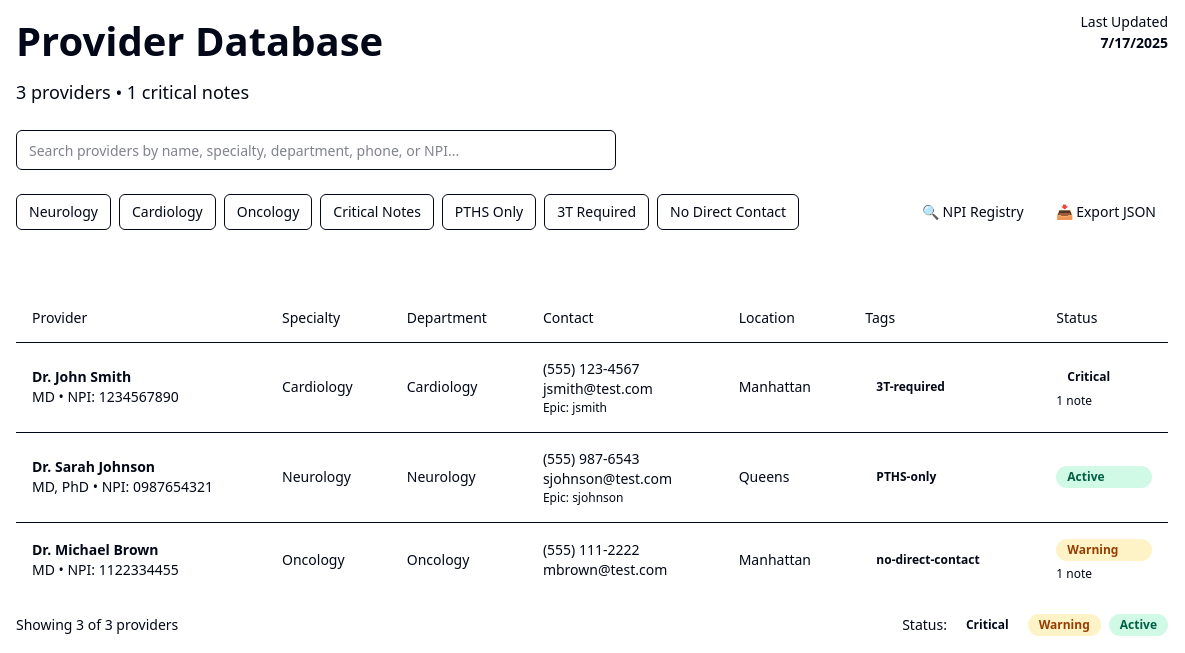
Test: Providers Page › Filter Functionality › filters by critical status
Click the button "Critical Notes". click: (377, 212)
box: [320,194,434,230]
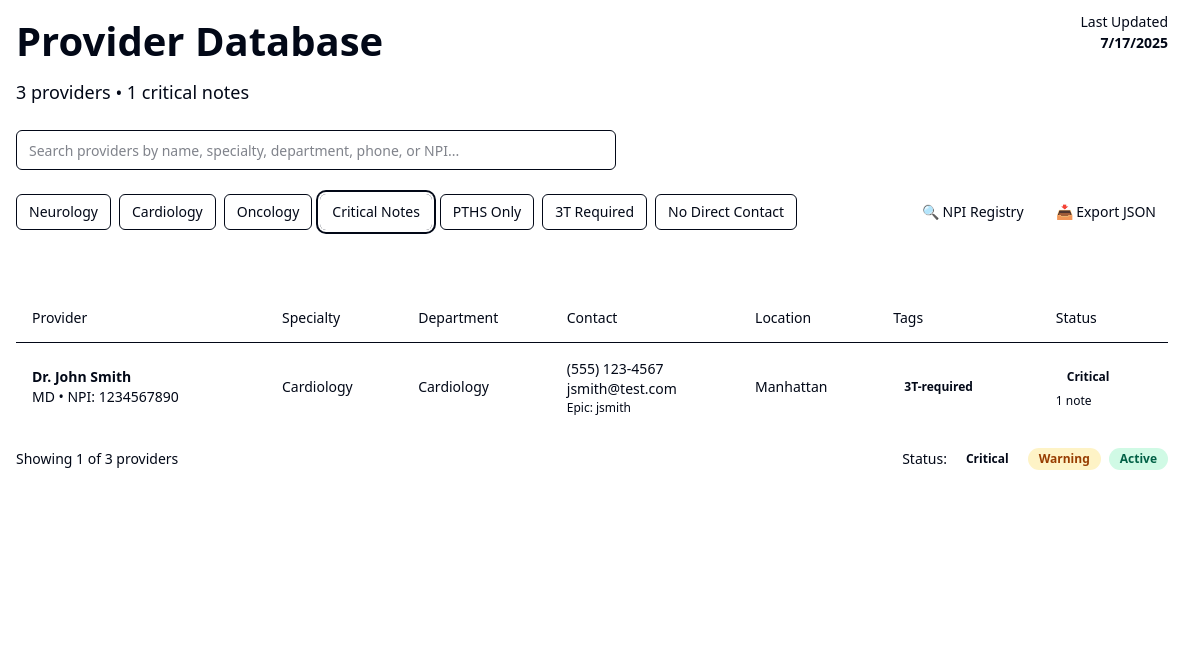
Check: the text "Dr. John Smith" is shown, box [32,367,131,386]
Check: the text "Dr. Sarah Johnson" is gone
Check: the text "Dr. Michael Brown" is gone
